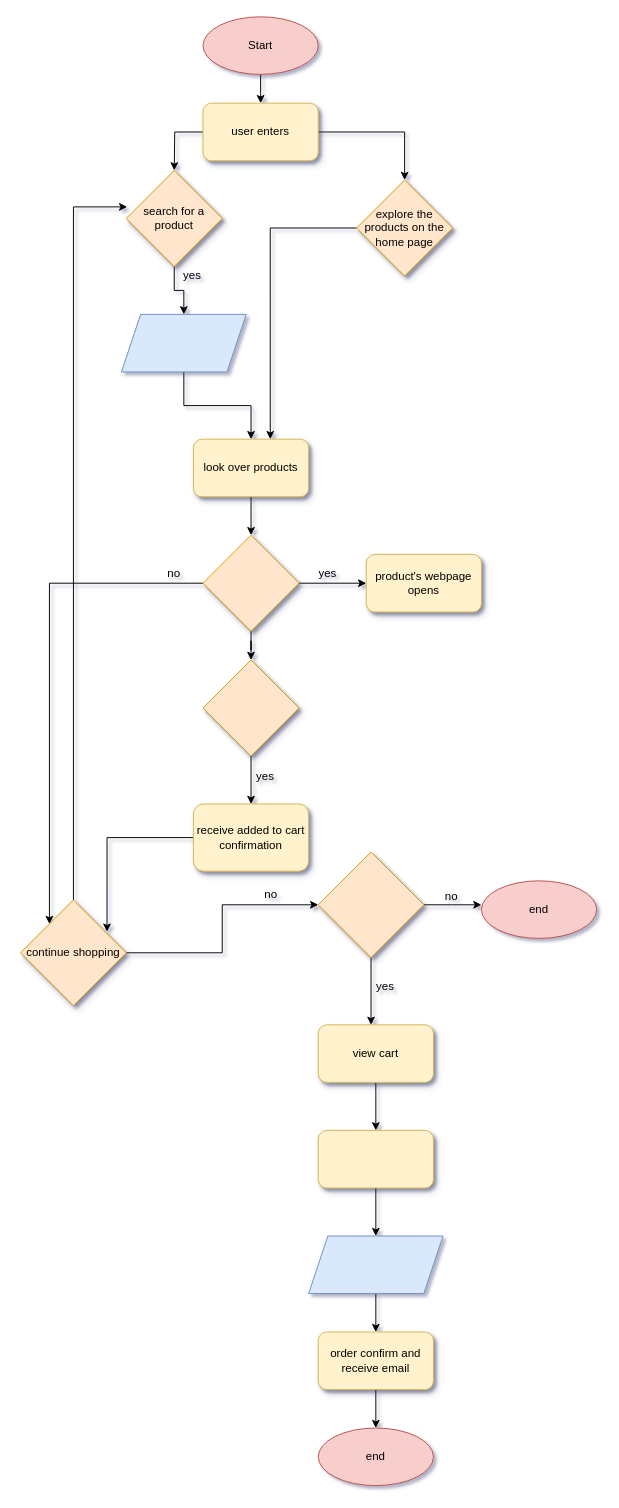
The diagram is 619 pixels wide and 1508 high, and some of its shapes have lost their labels. The centre of each missing label's shape, as x and y in pixels:
add this item to cart: point (251, 709)
checkout: point (371, 905)
give input of payment information: point (375, 1264)
provide input to the website: point (183, 342)
view a specific product: point (251, 584)
view payment: point (376, 1160)
